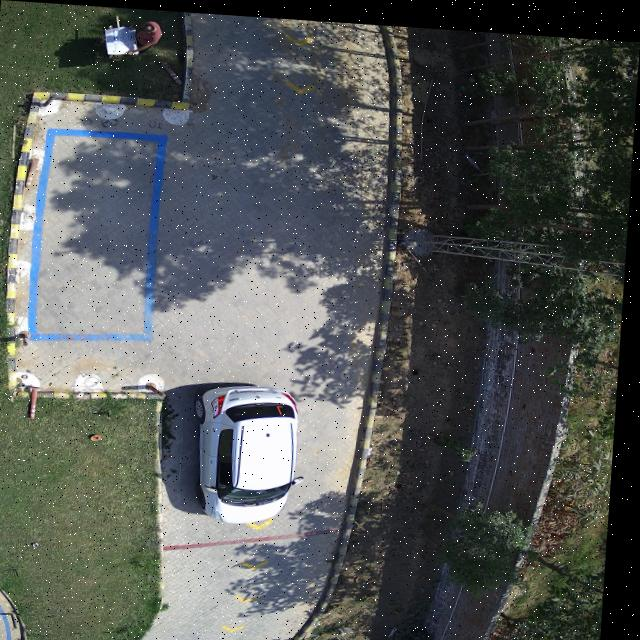car: (199, 380, 304, 520)
